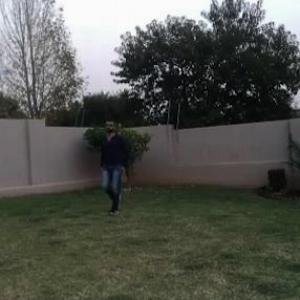follow: (97, 118, 129, 220)
